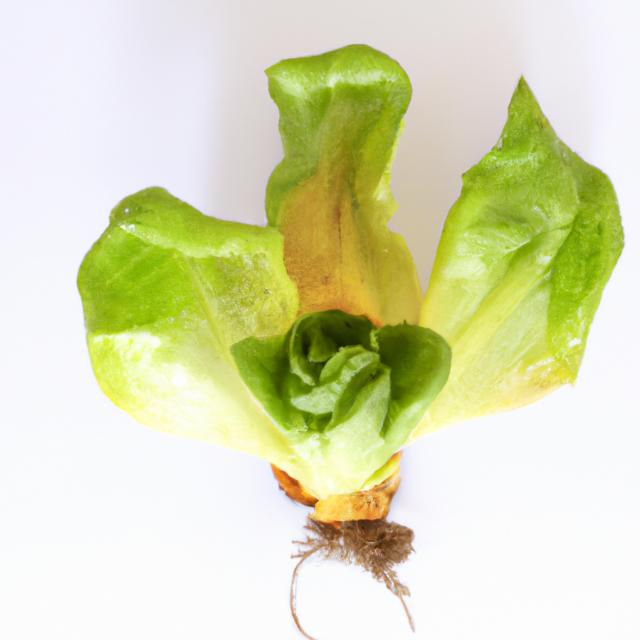-K: (68, 37, 629, 593)
